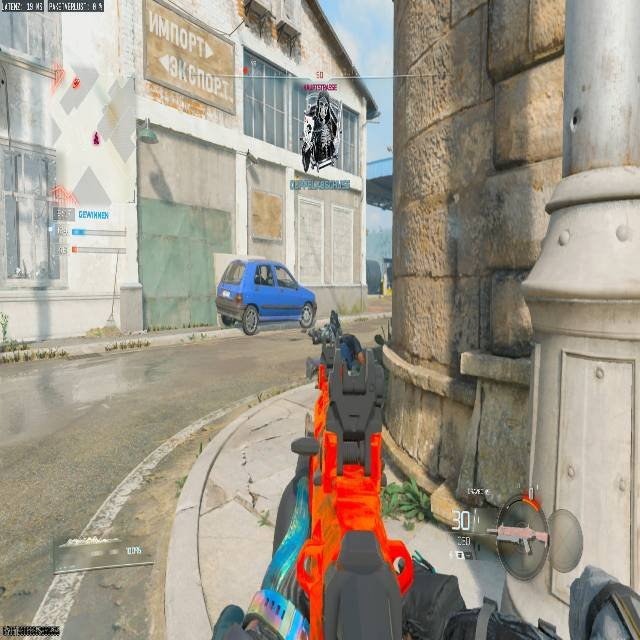head: (495, 494, 549, 576), (303, 300, 316, 314)
player: (301, 302, 364, 437), (300, 91, 341, 170), (217, 297, 261, 335)
